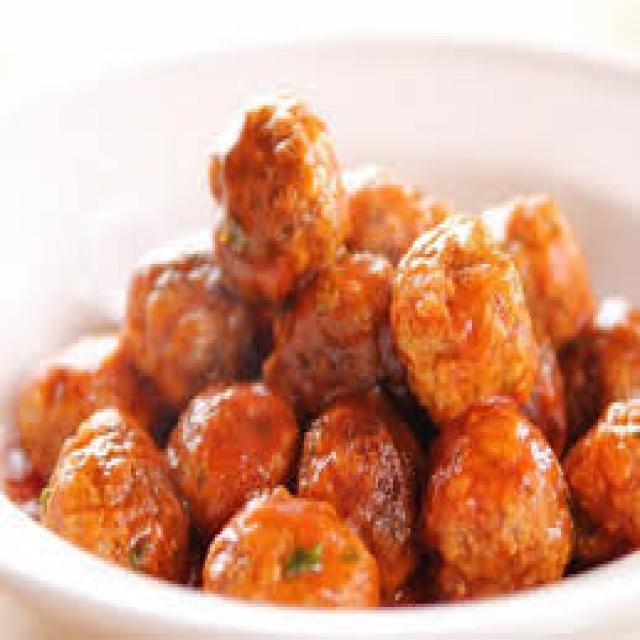meatball: (396, 396, 587, 606), (382, 212, 548, 416), (188, 81, 345, 292), (190, 485, 392, 619), (295, 377, 421, 582), (159, 369, 305, 528), (40, 408, 175, 576)
